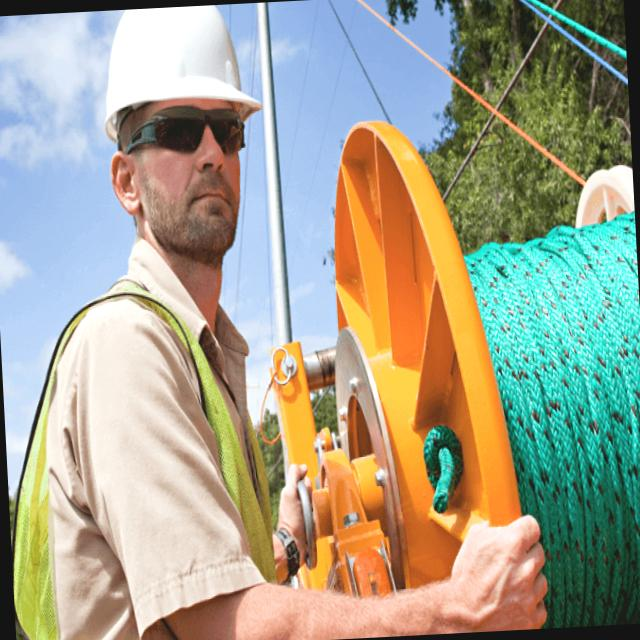goggles: (109, 100, 251, 168)
helmet: (96, 3, 264, 145)
vest: (0, 257, 281, 640)
